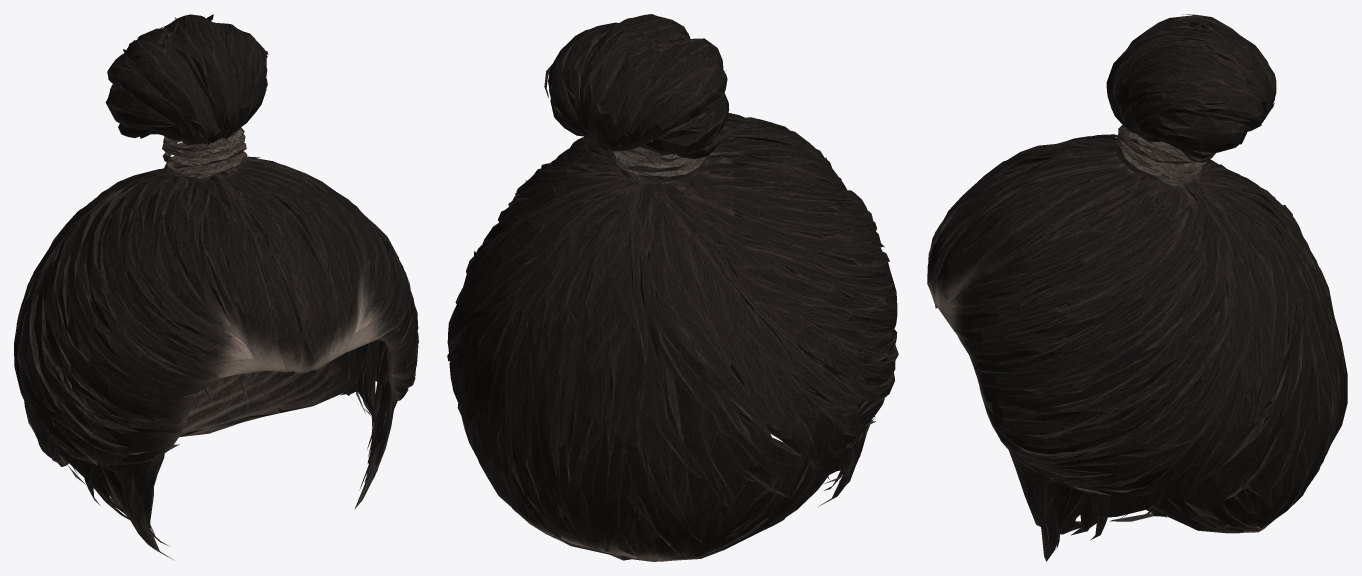
Rendered from acc_hair_topknot_image.glb.
The picture shows the model from 3 angles, left to right: view 1: azimuth 30°, elevation 25°; view 2: azimuth 150°, elevation 25°; view 3: azimuth 270°, elevation 25°; orthographic projection. The views are drawn at different scales.
Bounding box in the file's own units: 1.44 × 1.87 × 1.44.
Materials: 1 (1 with a texture image).
